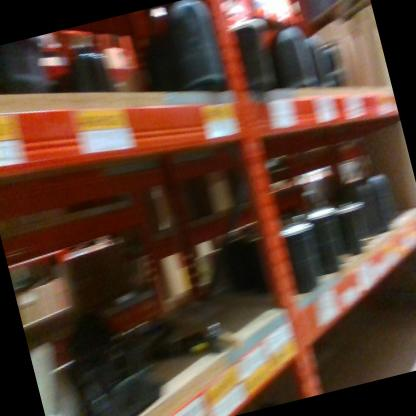pallet: (297, 0, 375, 42)
